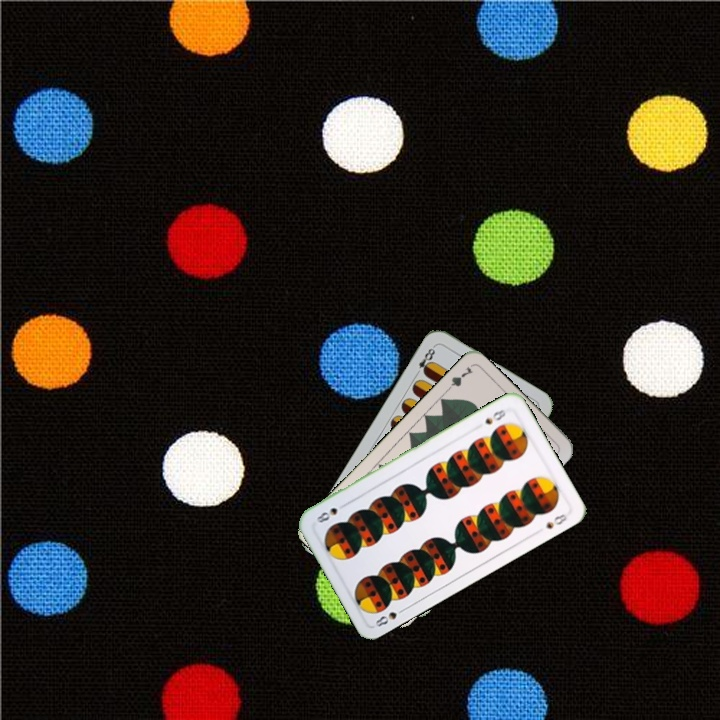E8: (411, 342, 438, 378)
G7: (441, 363, 476, 395)
S8: (371, 604, 408, 631), (481, 405, 508, 427)
